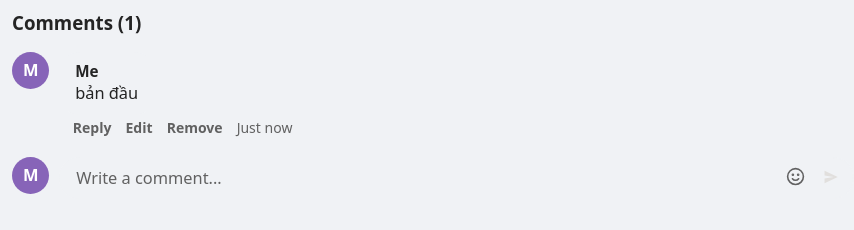
Test: TaskComments › should_cancelEdit_withEscape_withoutCallingServer
Click the button "Edit": (139, 129) [126, 119, 153, 138]
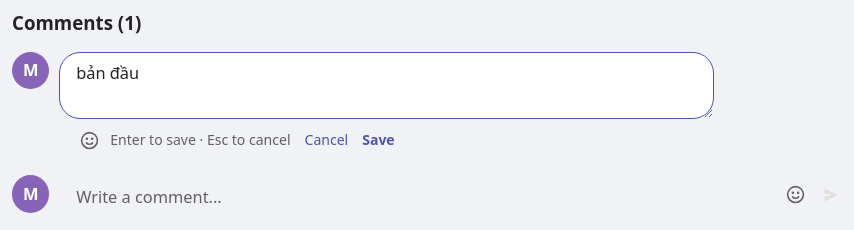
Press Escape in the text box with test id "edit-input", box [59, 52, 714, 119]
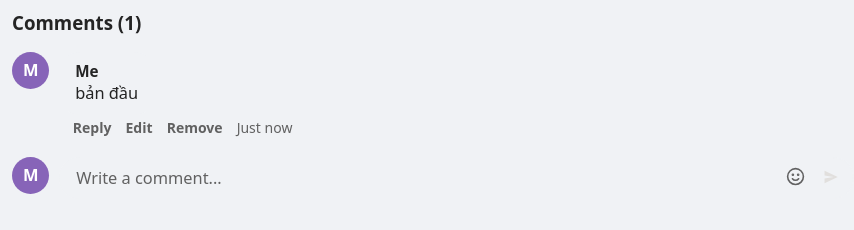
Now the text "bản đầu" is shown, box [75, 82, 138, 105]
